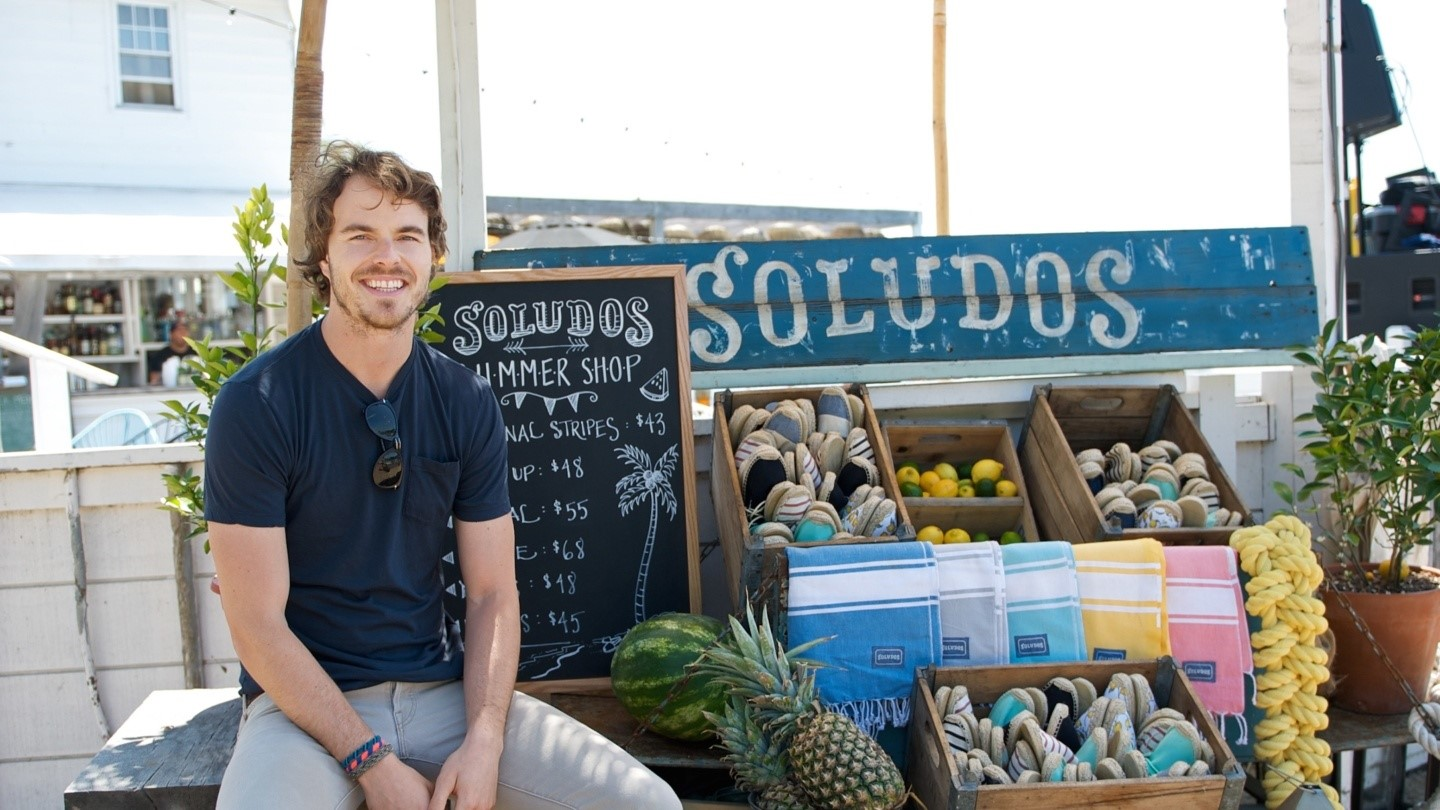face_no_mask: (311, 155, 444, 328)
